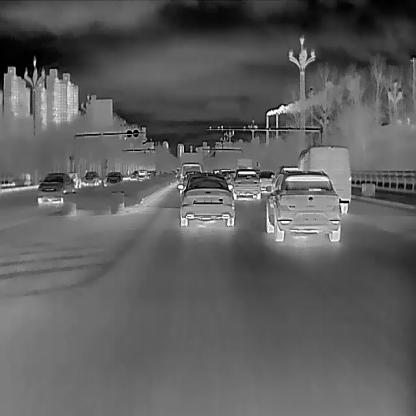car: (265, 168, 341, 241), (299, 146, 350, 214), (178, 175, 235, 226), (35, 171, 72, 204), (231, 170, 260, 200), (179, 170, 201, 196), (180, 160, 201, 184), (255, 170, 275, 193), (81, 170, 99, 187), (235, 157, 251, 176), (103, 172, 121, 186), (136, 169, 149, 181)
